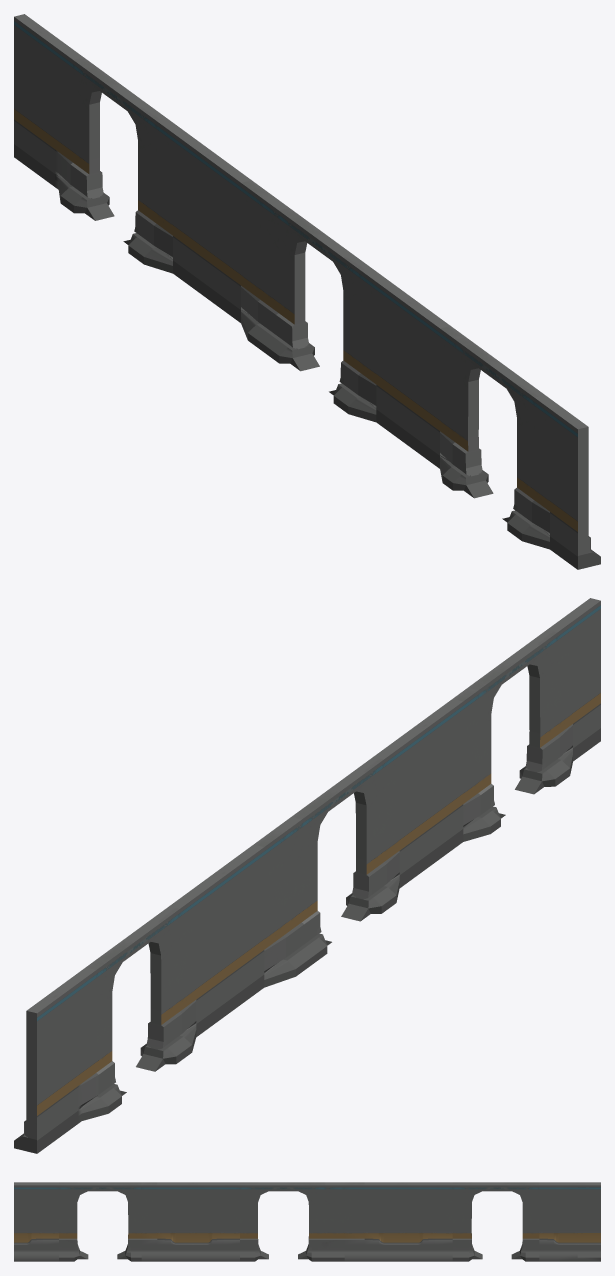
The model's file is Wall_corridor_Hosp.fbx.
3 renders of one model, top to bottom at view 1: azimuth 30°, elevation 25°; view 2: azimuth 150°, elevation 25°; view 3: azimuth 270°, elevation 25°, orthographic. The views are drawn at different scales.
Parts seen in each view (by area): view 1: Wall_corridor_Hosp; view 2: Wall_corridor_Hosp; view 3: Wall_corridor_Hosp.
Boxes of the visible parts, box(x1,y1,x2,y2) form: Wall_corridor_Hosp: box(14, 14, 600, 569); Wall_corridor_Hosp: box(14, 598, 600, 1153); Wall_corridor_Hosp: box(14, 1182, 600, 1261).
Bounding box in the file's own units: 66.2 × 250 × 1814.
